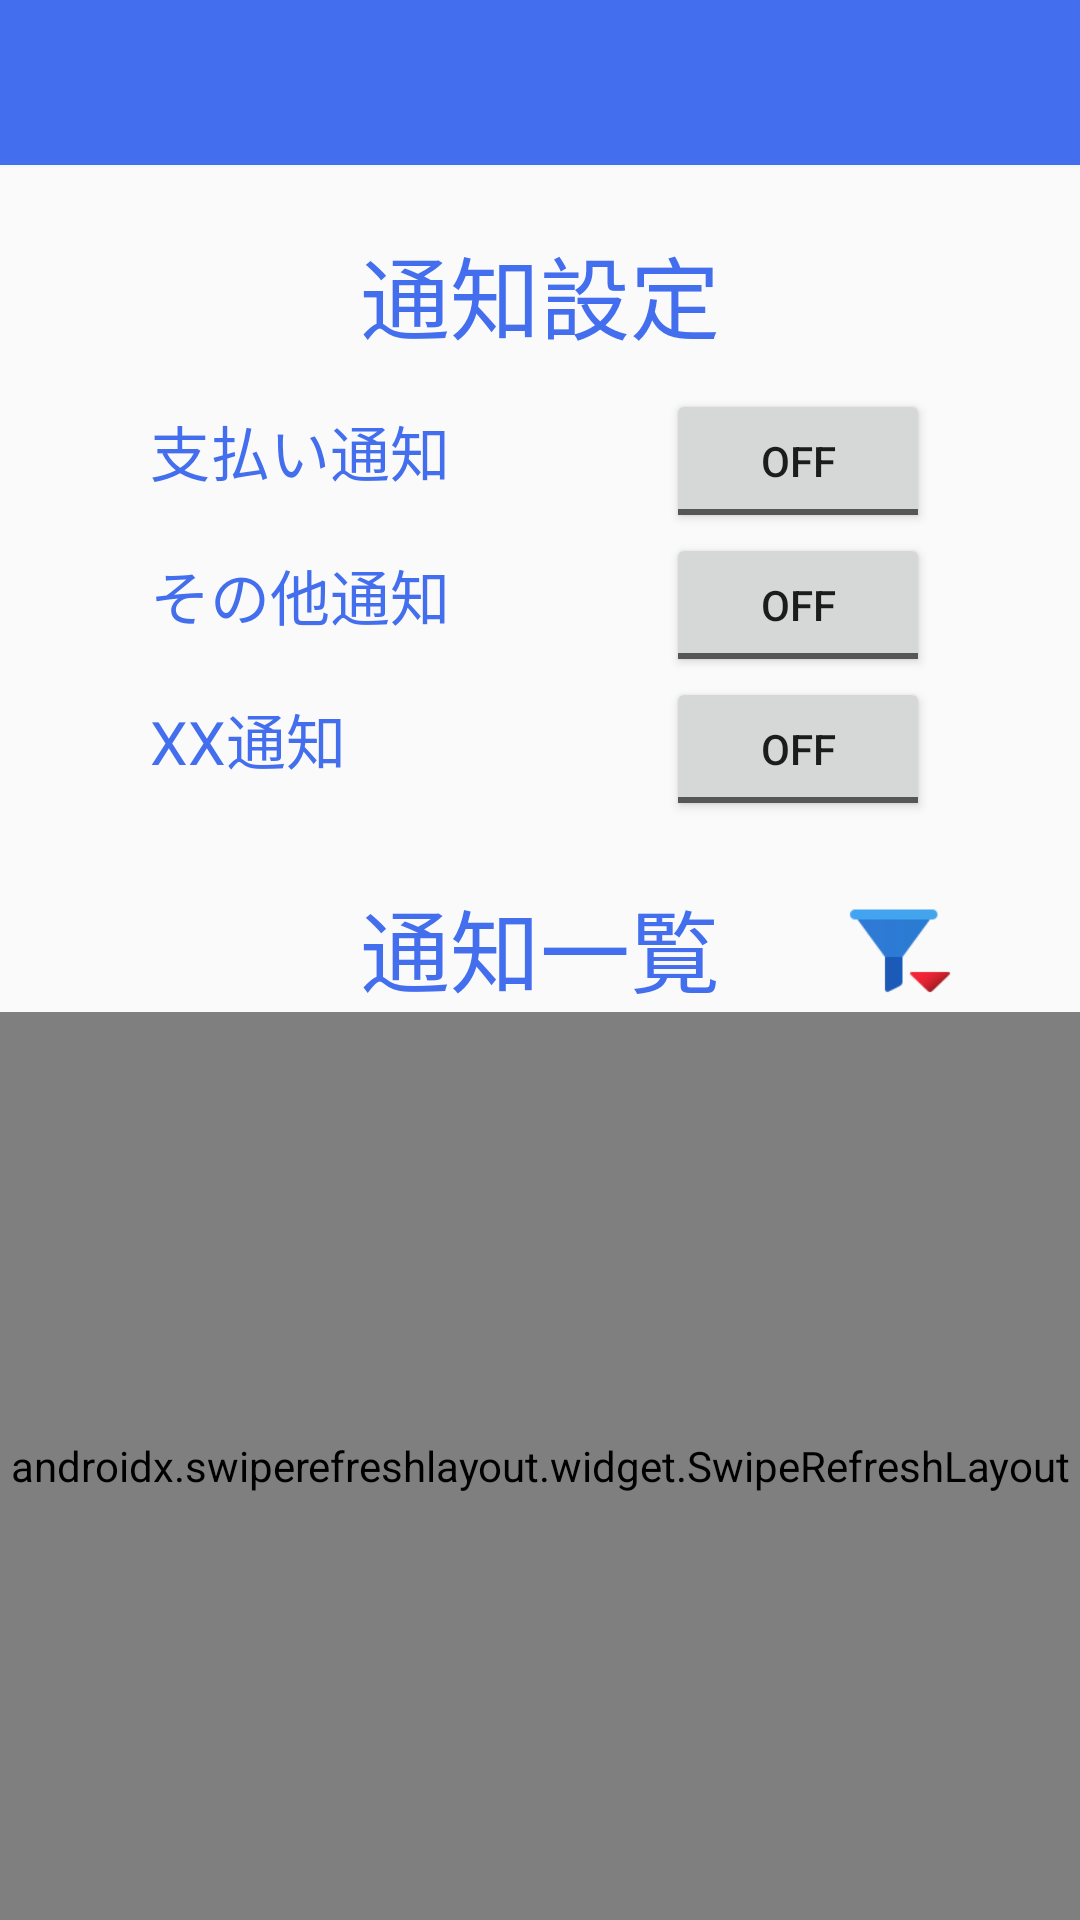

Named icons in this screenshot (1080x1920) and their centers, (x,y):
filter: (900,950)
